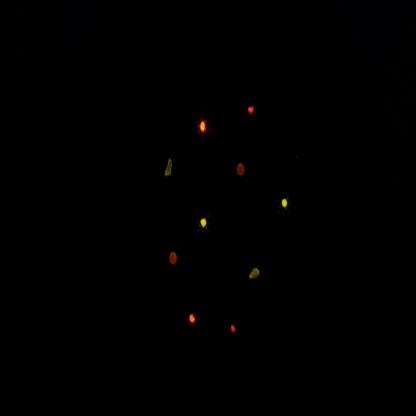PE: (278, 189, 294, 219), (199, 208, 212, 235)
PET: (226, 314, 243, 346), (245, 96, 260, 125)
PP: (247, 258, 267, 290), (162, 152, 177, 185)
PS: (169, 247, 182, 273), (236, 160, 248, 181)
PVC: (184, 303, 202, 335), (197, 112, 212, 141)
